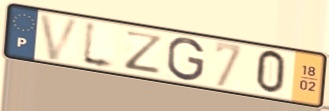0: (254, 49, 290, 99)
7: (212, 40, 247, 90)
G: (166, 36, 207, 82)
L: (79, 18, 118, 74)
V: (37, 12, 84, 63)
Z: (124, 29, 167, 76)
